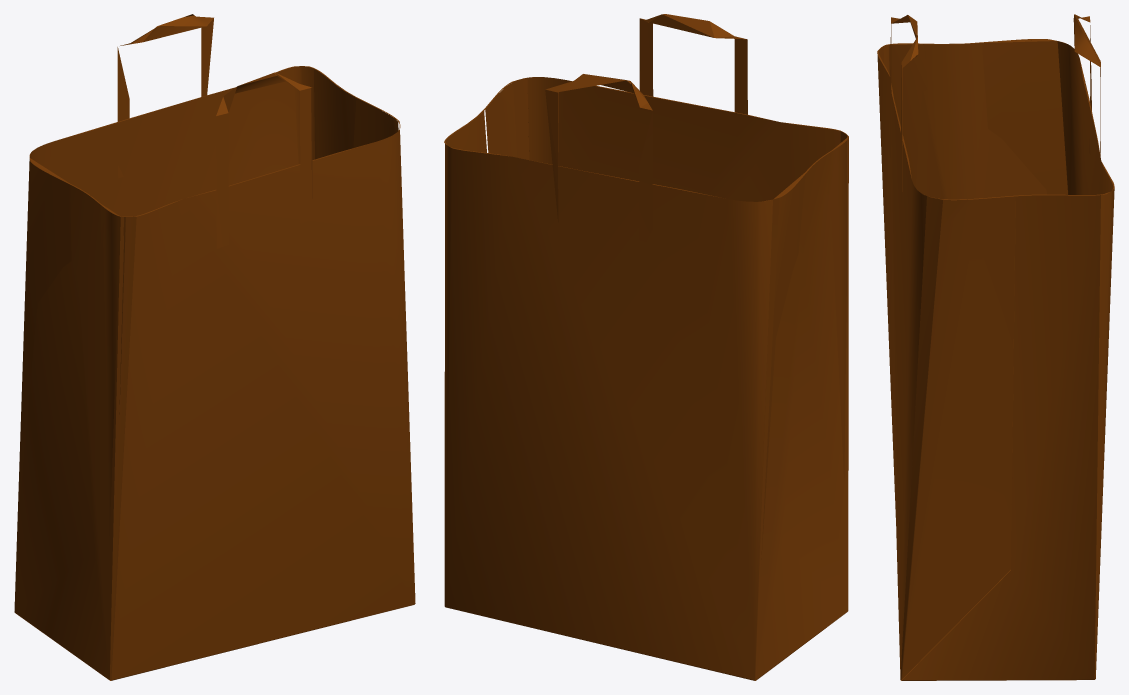
File: paper.fbx
3 renders of one model, left to right at view 1: azimuth 30°, elevation 25°; view 2: azimuth 150°, elevation 25°; view 3: azimuth 270°, elevation 25°, orthographic. The views are drawn at different scales.
Parts seen in each view (by area): view 1: paper; view 2: paper; view 3: paper.
Part boxes in pixels (bbox=[...]): paper: bbox=[14, 14, 415, 680]; paper: bbox=[444, 14, 848, 680]; paper: bbox=[877, 14, 1114, 680].
Size of the model in its own units: 14.19 by 23.74 by 8.82.
